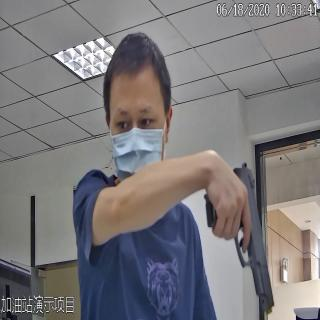gun: (200, 154, 276, 308)
